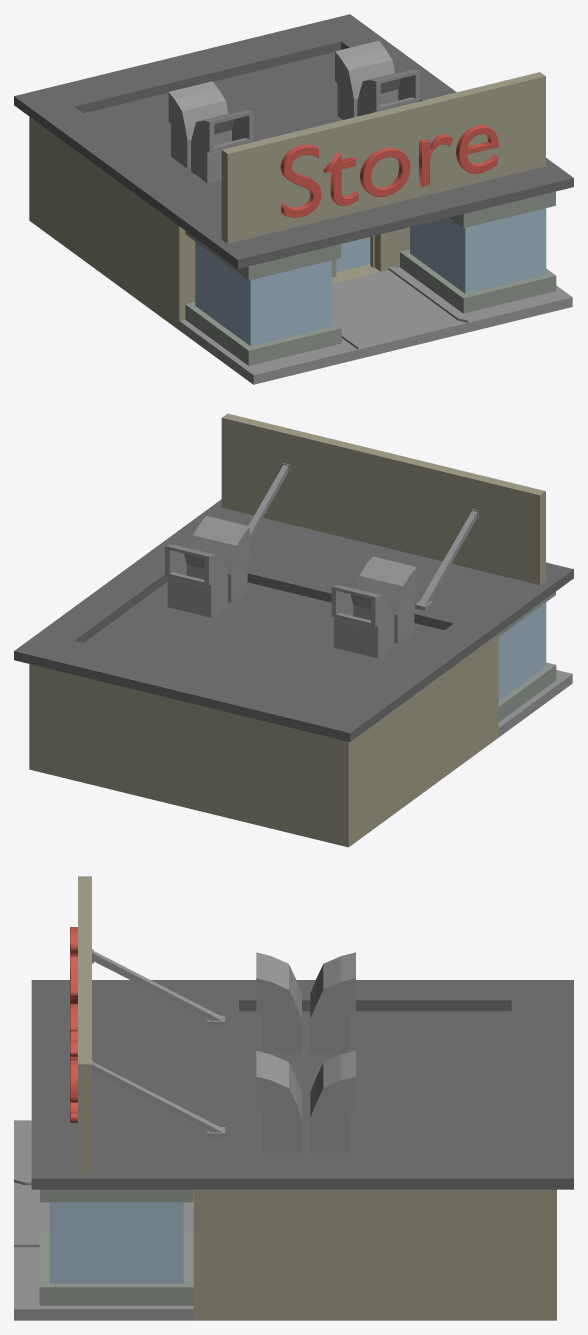
File: Shop.fbx
The picture shows the model from 3 angles, top to bottom: view 1: azimuth 30°, elevation 25°; view 2: azimuth 150°, elevation 25°; view 3: azimuth 270°, elevation 25°; orthographic projection. The views are drawn at different scales.
Visible parts, largest first — view 1: Cube, Text; view 2: Cube; view 3: Cube, Text.
Boxes of the visible parts, <box> form: Cube: <box>14,14,573,384</box>; Text: <box>280,125,498,217</box>; Cube: <box>14,413,573,847</box>; Cube: <box>14,876,573,1320</box>; Text: <box>70,927,77,1122</box>.
Size of the model in its own units: 353 by 212 by 420.
